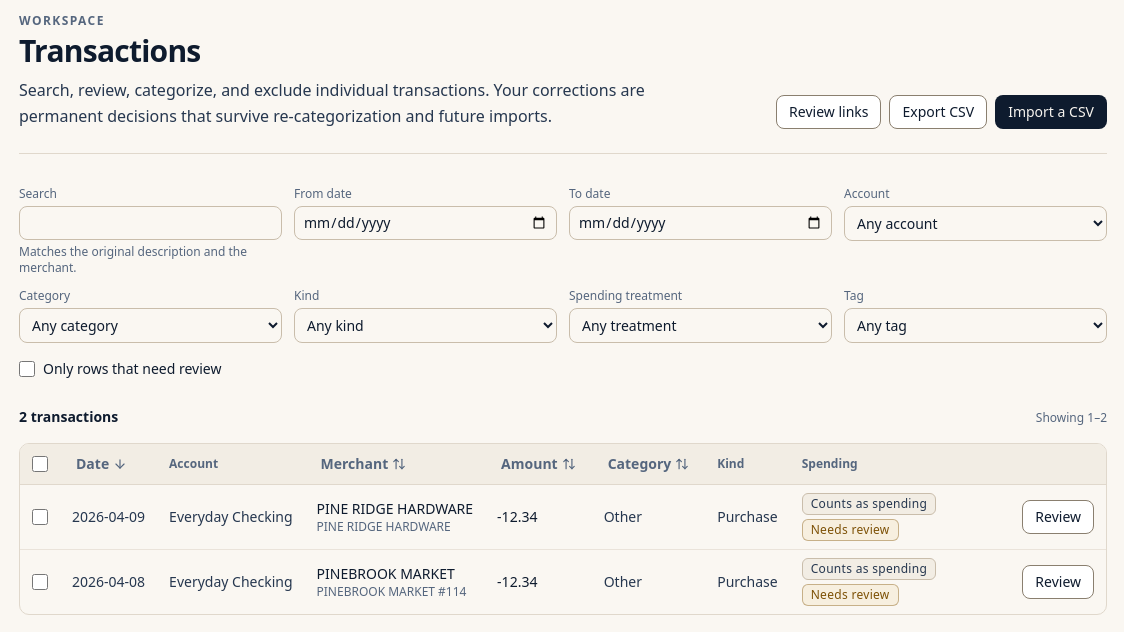
Test: rapid filter changes › renders the newest answer even when an older query resolves later
Check: the heading "2 transactions" is shown, box [19,407,118,427]
Type "PINEBROOK" into the field labelled "Search" at (150,223), box [19,206,282,240]
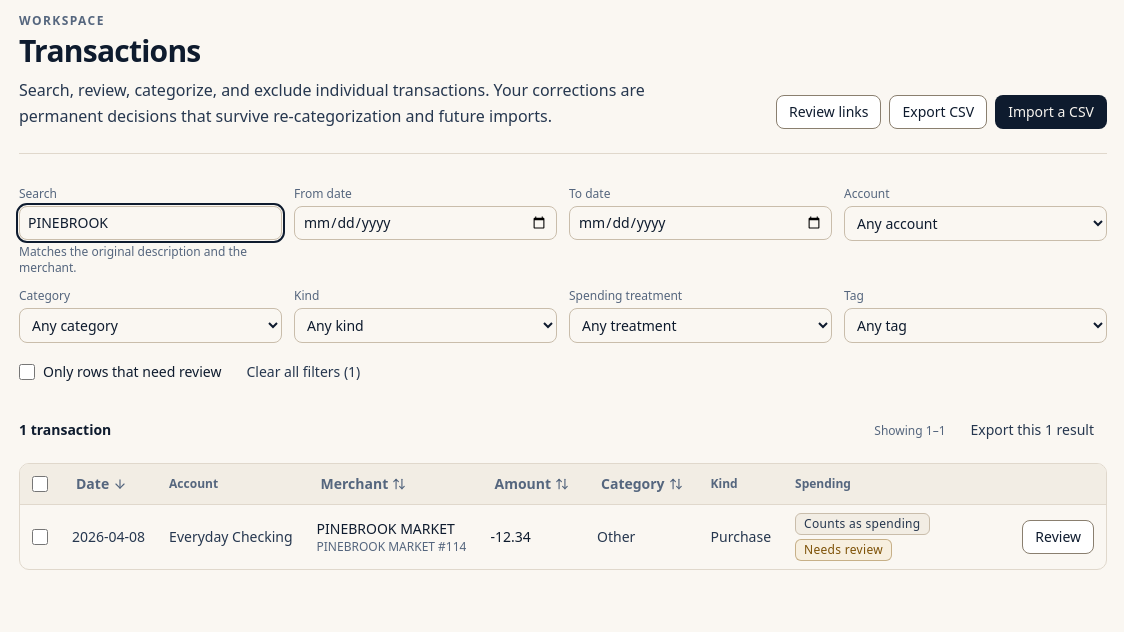
Check: the heading "1 transaction" is shown, box [19,420,111,440]
